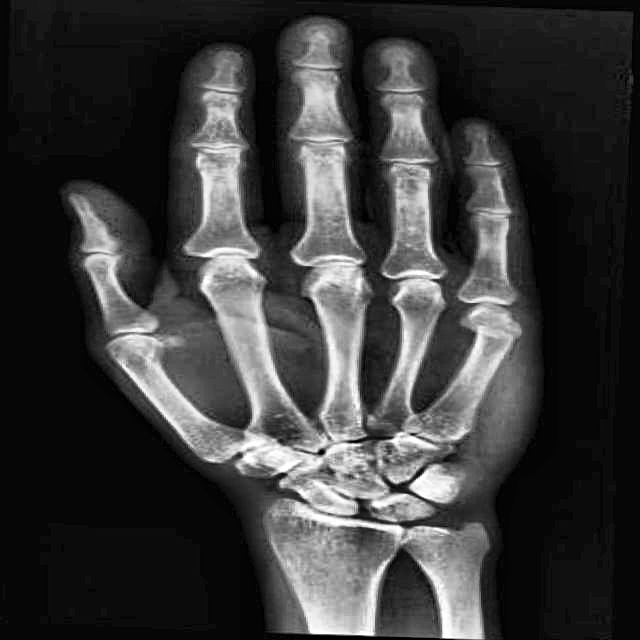Comminuted: (451, 300, 534, 357)
